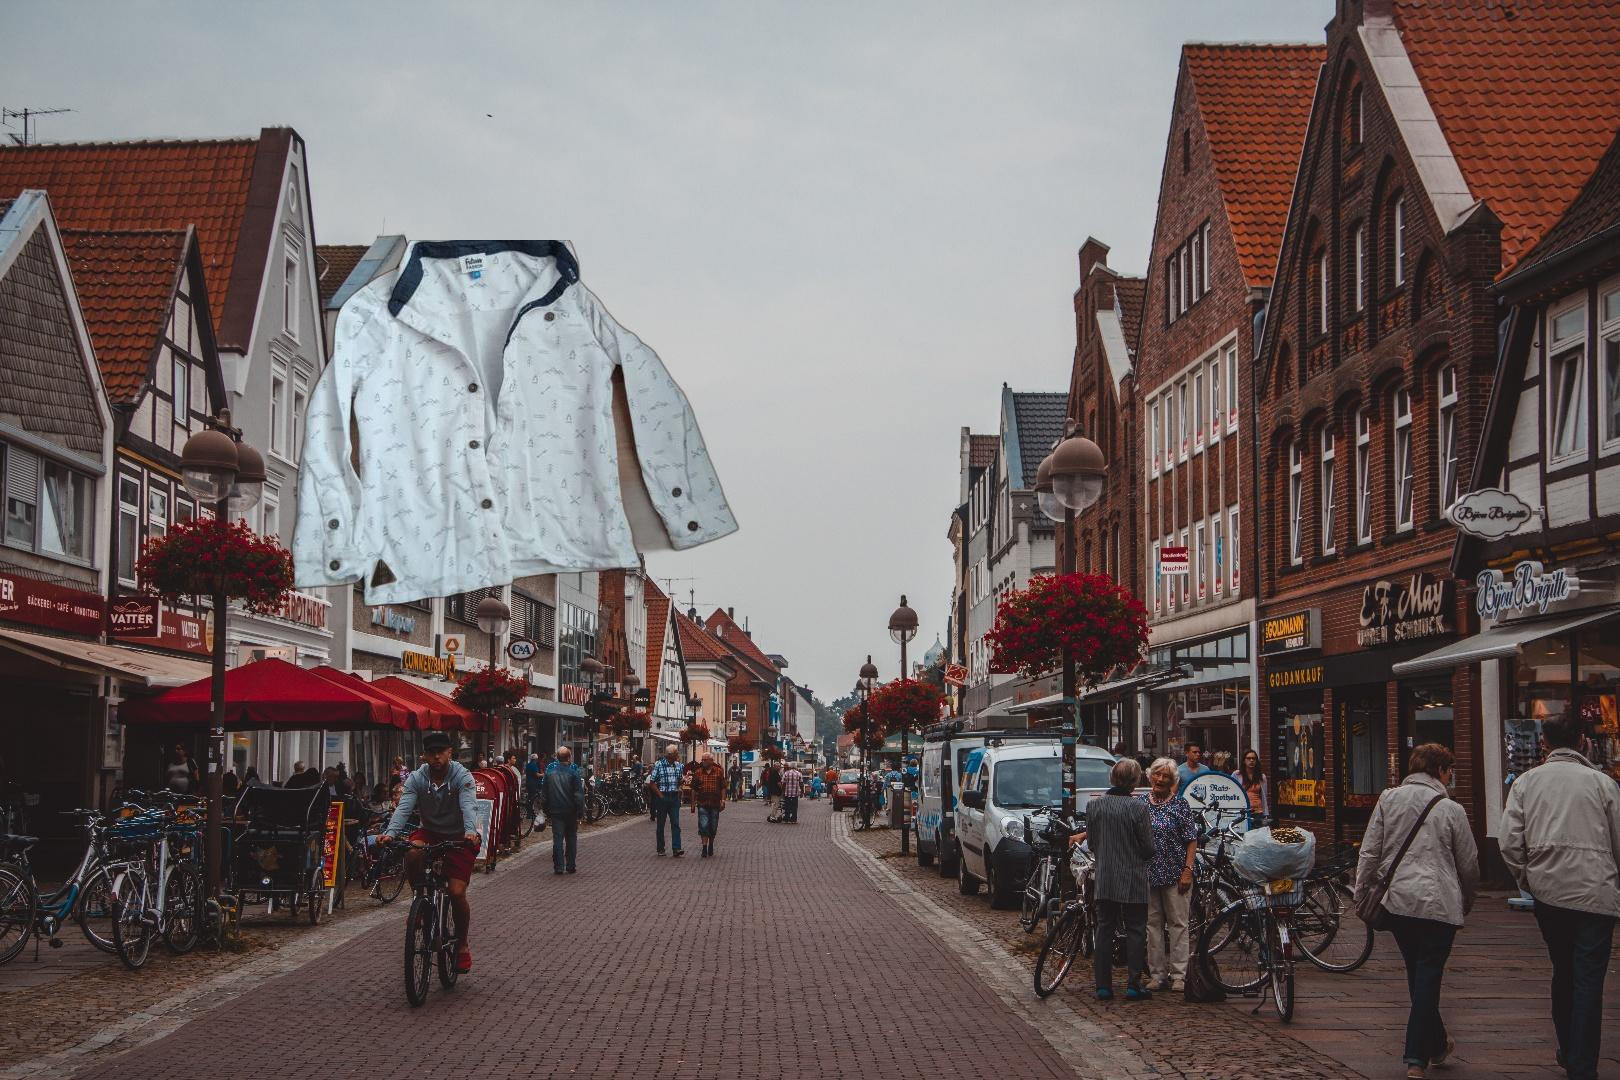clothes: (287, 240, 744, 610)
